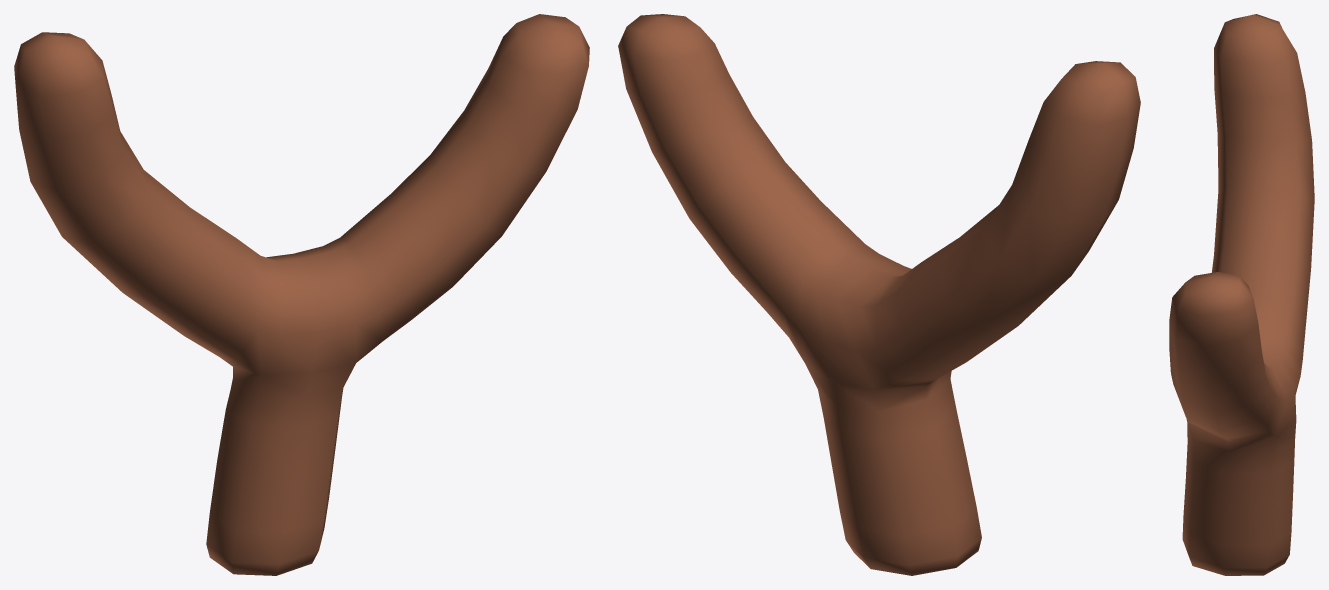
The model's file is Shrub_Btm_B_02.fbx.
The picture shows the model from 3 angles, left to right: view 1: azimuth 30°, elevation 25°; view 2: azimuth 150°, elevation 25°; view 3: azimuth 270°, elevation 25°; orthographic projection. The views are drawn at different scales.
Parts seen in each view (by area): view 1: Shrub_Btm_B_02_LOD0; view 2: Shrub_Btm_B_02_LOD0; view 3: Shrub_Btm_B_02_LOD0.
Part boxes in pixels (x1,y1,x2,y2): Shrub_Btm_B_02_LOD0: (14, 14, 589, 575); Shrub_Btm_B_02_LOD0: (618, 14, 1140, 575); Shrub_Btm_B_02_LOD0: (1169, 14, 1314, 575).
Size of what is drawn, in the model's own units: 362 by 359 by 102.
